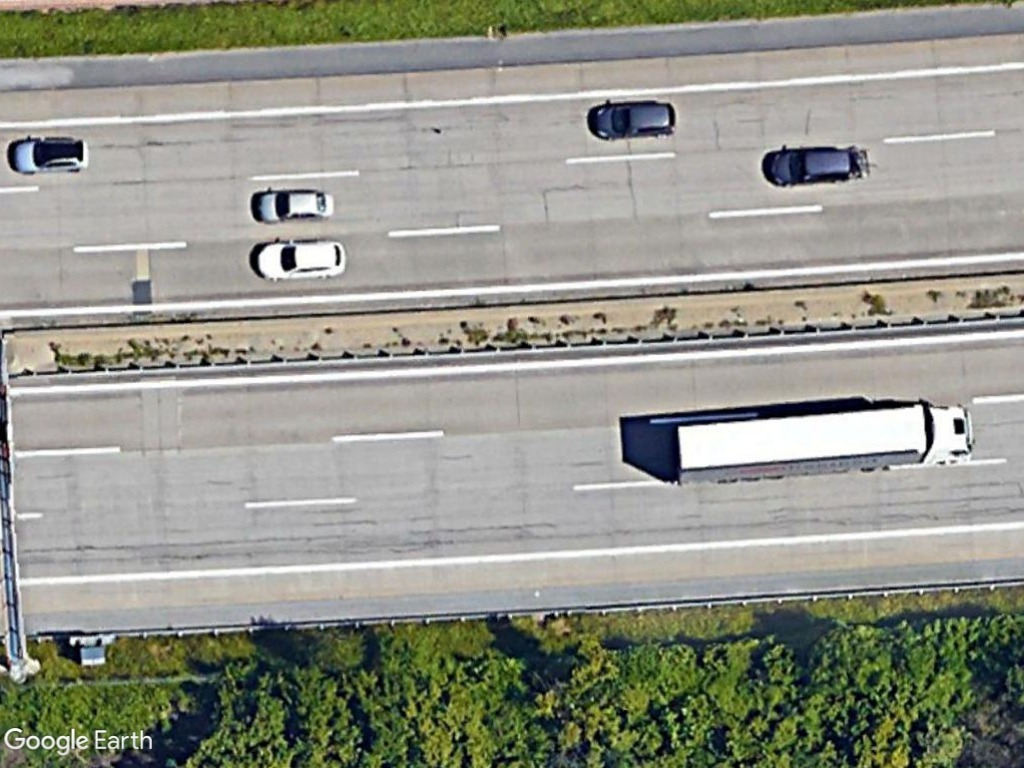car: (242, 235, 352, 283), (758, 143, 866, 191), (5, 134, 99, 178), (585, 100, 683, 141), (248, 186, 343, 224)
longvehicle: (661, 398, 981, 490)
